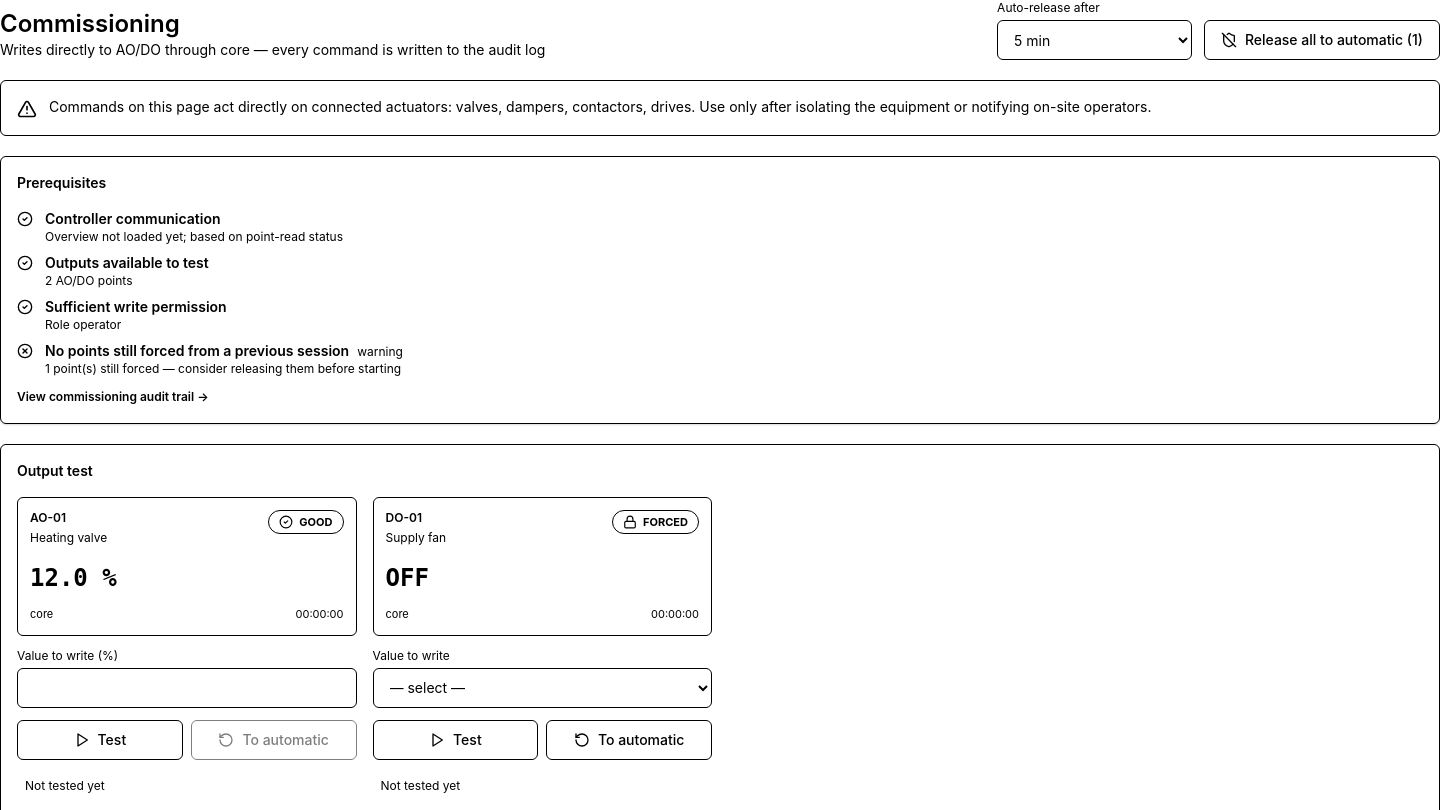
Test case: CommissioningPage auto-release timeout › names the timeout inside the confirmation, next to the physical consequence
In the number field named "Value to write for AO-01": (187, 688) [17,668,356,708], type "35"
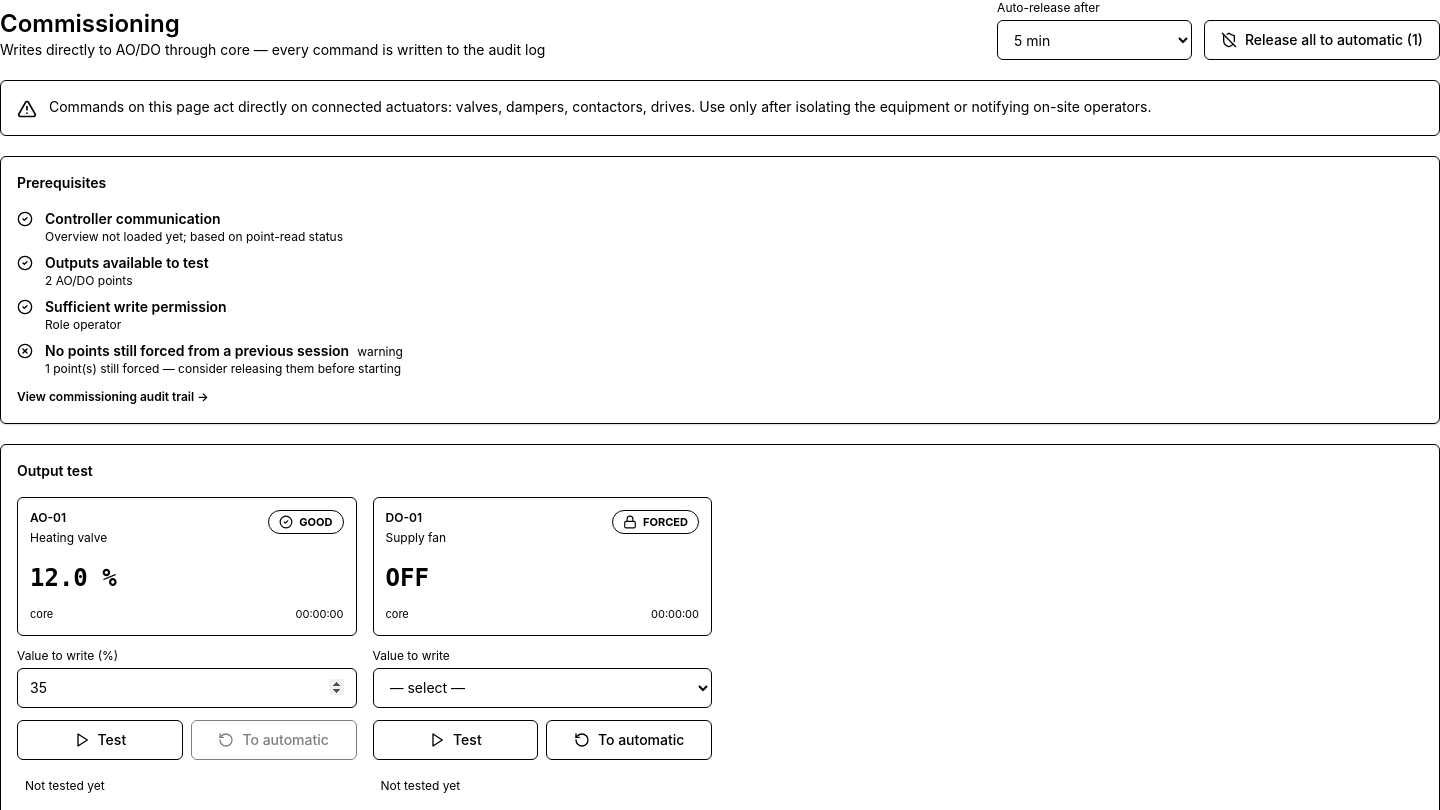
Click the button with aria-label "Test AO-01": (100, 740) [17,720,183,760]
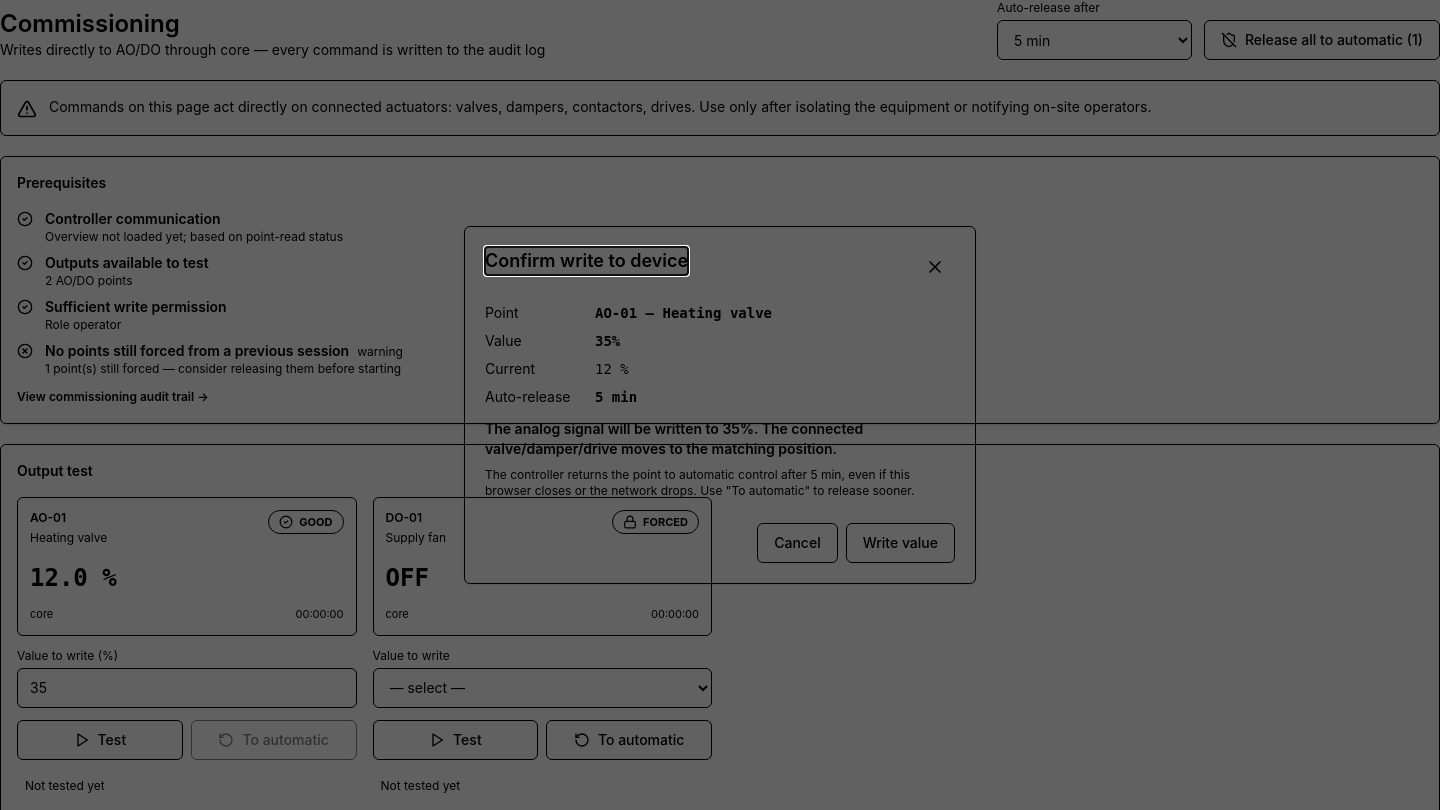
Expected: the dialog shows "5 min", [595,389,637,405]
Expected: the dialog shows "even if this browser closes", [485,467,915,498]
